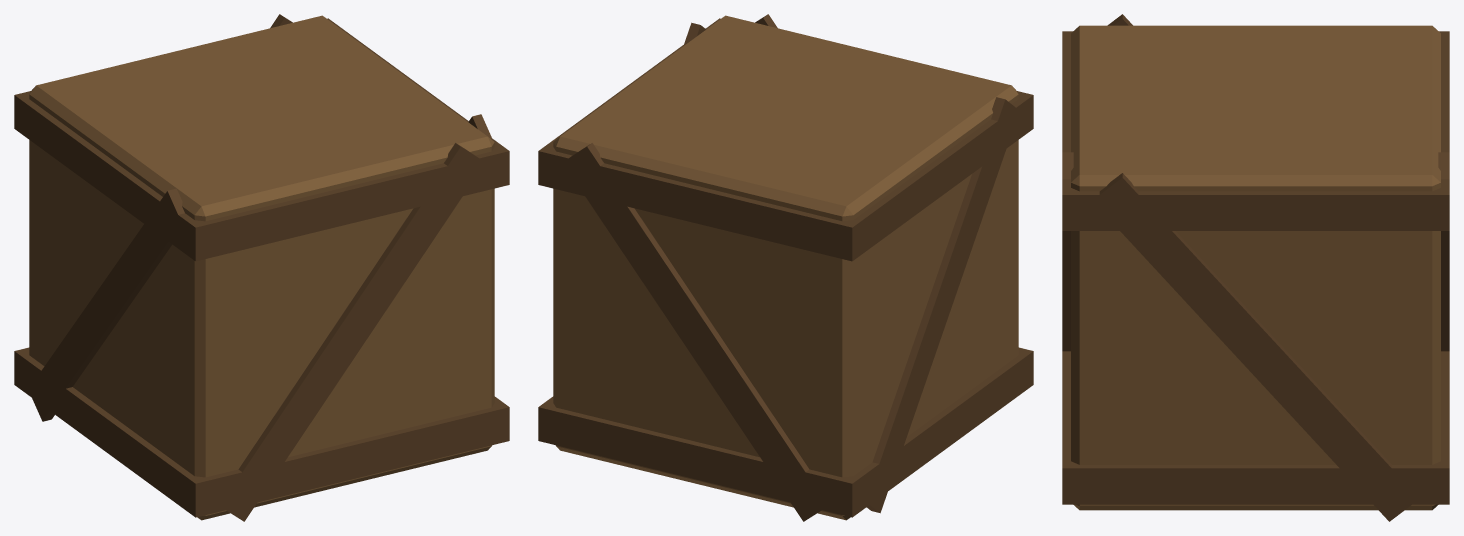
Rendered from env_crate.glb.
3 renders of one model, left to right at view 1: azimuth 30°, elevation 25°; view 2: azimuth 150°, elevation 25°; view 3: azimuth 270°, elevation 25°, orthographic. The views are drawn at different scales.
Visible parts, largest first — view 1: crate; view 2: crate; view 3: crate.
Part boxes in pixels (bbox=[...]): crate: bbox=[14, 14, 509, 521]; crate: bbox=[538, 14, 1033, 521]; crate: bbox=[1062, 14, 1449, 521].
Bounding box in the file's own units: 1.36 × 1.33 × 1.36.
Materials: 1 (1 with a texture image).
